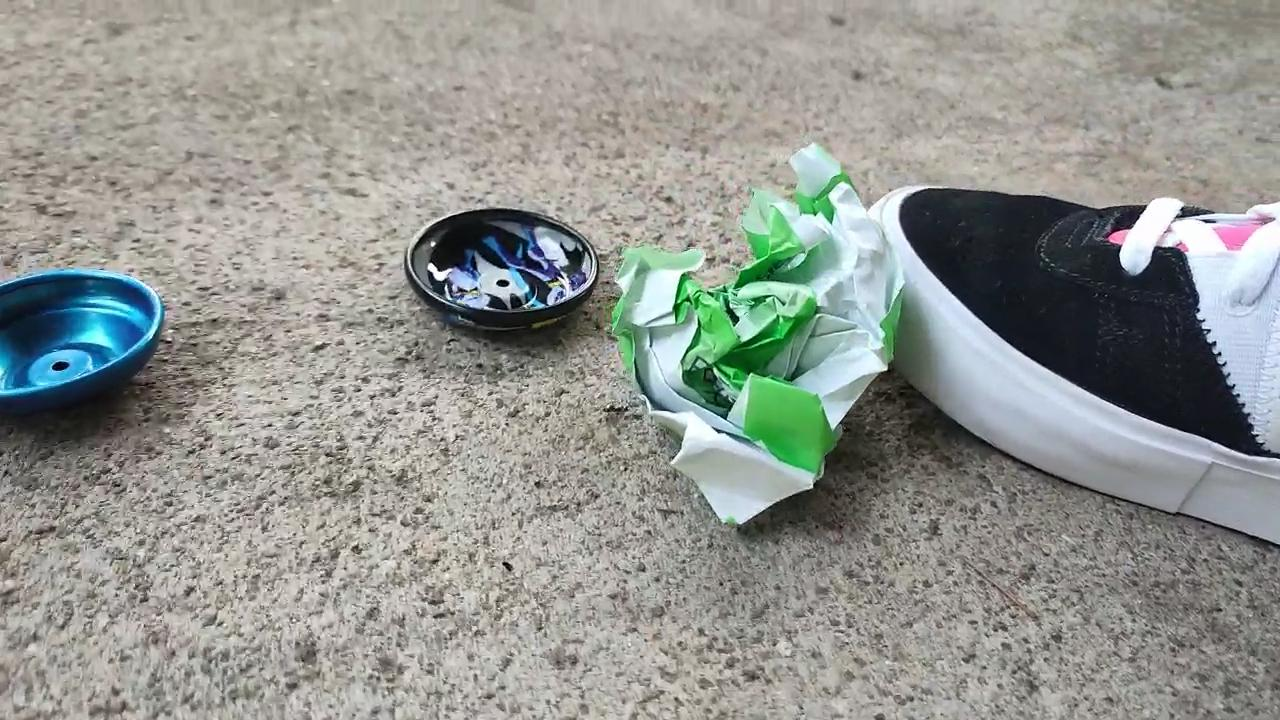Paper: (589, 127, 909, 536)
